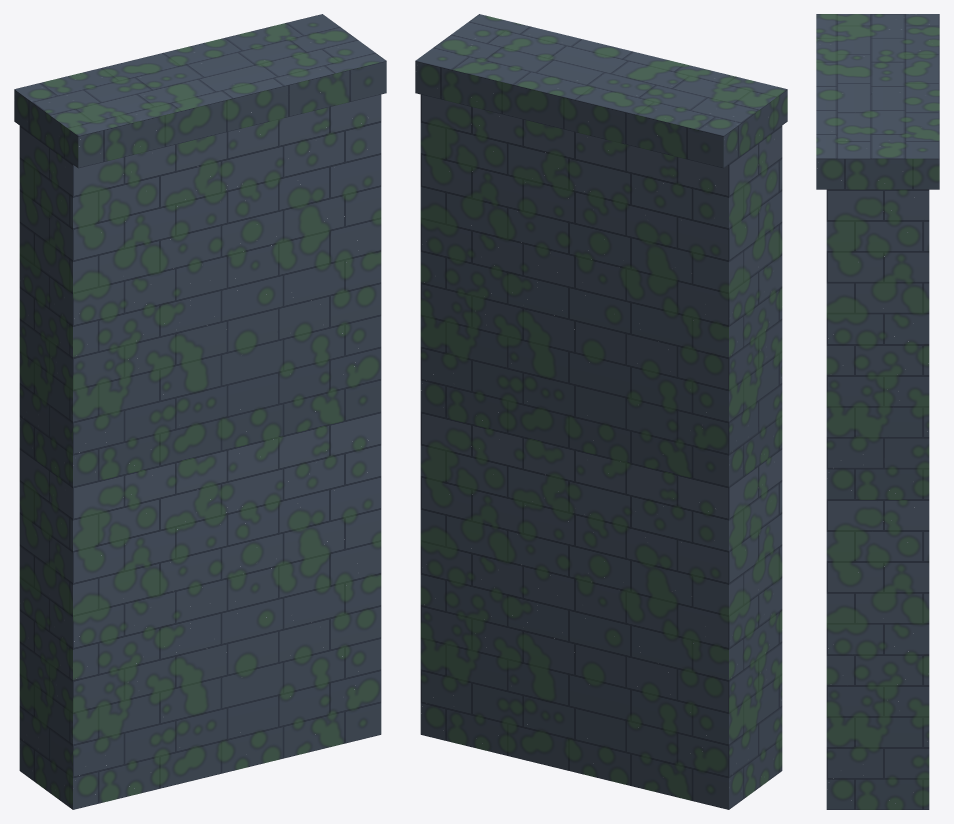
Rendered from wall_straight_1m.obj.
The picture shows the model from 3 angles, left to right: view 1: azimuth 30°, elevation 25°; view 2: azimuth 150°, elevation 25°; view 3: azimuth 270°, elevation 25°; orthographic projection. The views are drawn at different scales.
Parts seen in each view (by area): view 1: wall_straight_1m; view 2: wall_straight_1m; view 3: wall_straight_1m.
Part boxes in pixels (box(x1,y1,x2,y2)): wall_straight_1m: box(14, 14, 386, 809); wall_straight_1m: box(415, 14, 787, 809); wall_straight_1m: box(816, 14, 939, 809).
Bounding box in the file's own units: 1 × 2.1 × 0.36.
1 material, 1 textured.
